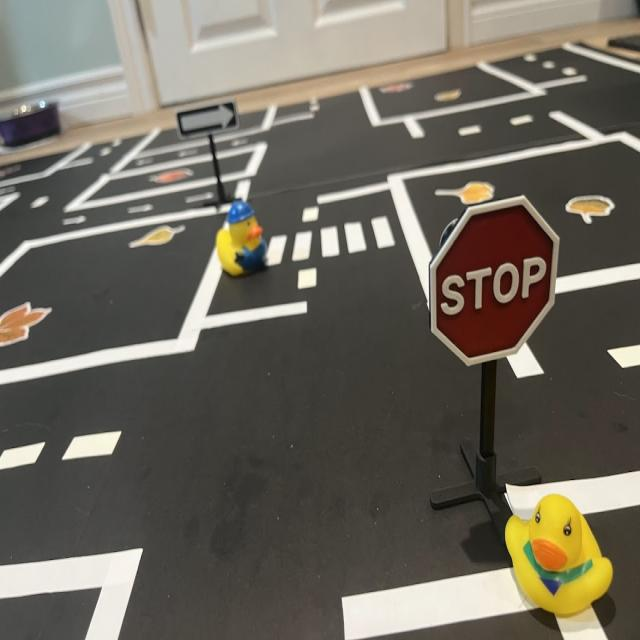duck_regular: (506, 496, 614, 618)
duck_specialty: (218, 204, 268, 278)
road_crosswalk: (267, 211, 402, 272)
road_oneway: (183, 193, 218, 207), (62, 215, 92, 231), (129, 205, 159, 219)
sign_oneway_right: (171, 92, 242, 142)
sign_stop: (428, 199, 561, 370)
